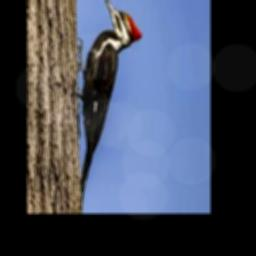Woodpecker: (76, 0, 142, 206)
